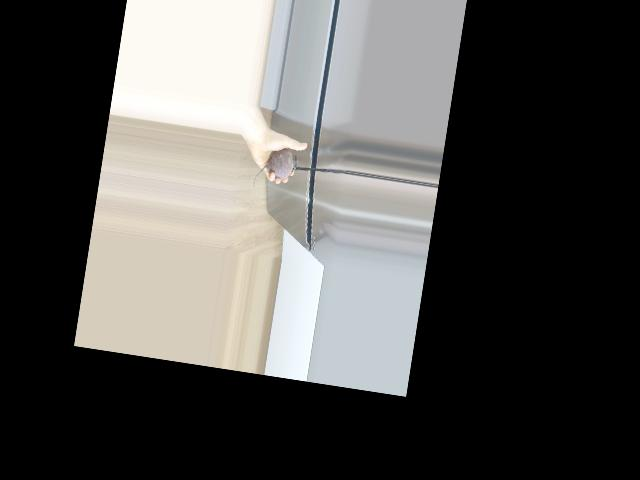beet: (252, 144, 299, 194)
